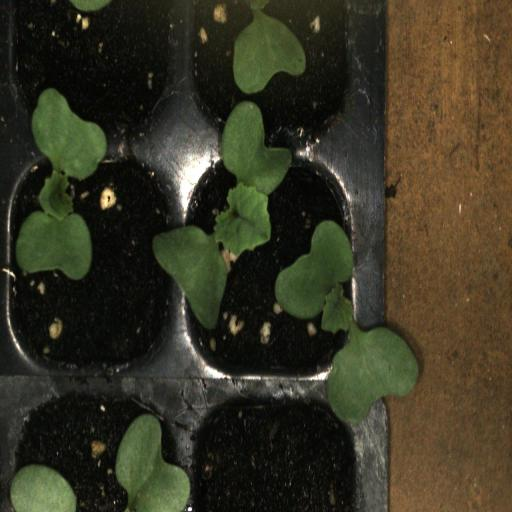seedling: (3, 142, 182, 390)
twoseedling: (179, 145, 367, 391)
